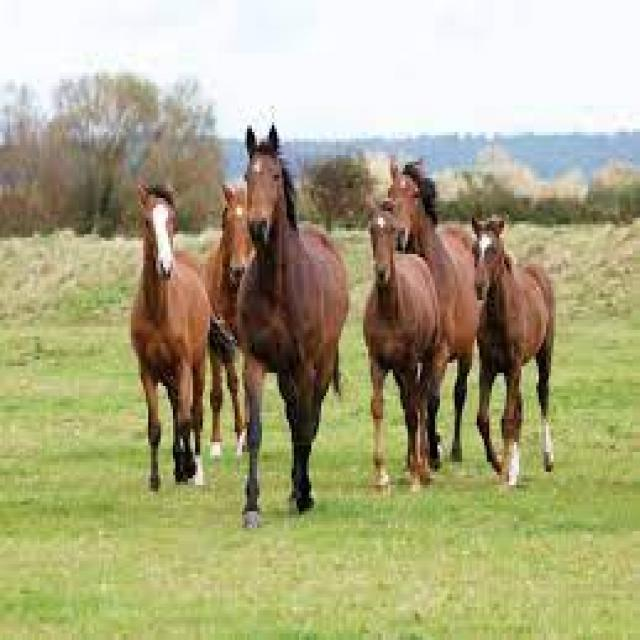horse: (236, 118, 350, 520), (360, 188, 452, 486), (471, 215, 562, 494), (136, 176, 210, 486), (216, 175, 260, 468), (384, 153, 438, 249)
